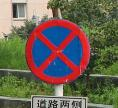No Parking: (24, 19, 90, 86)
